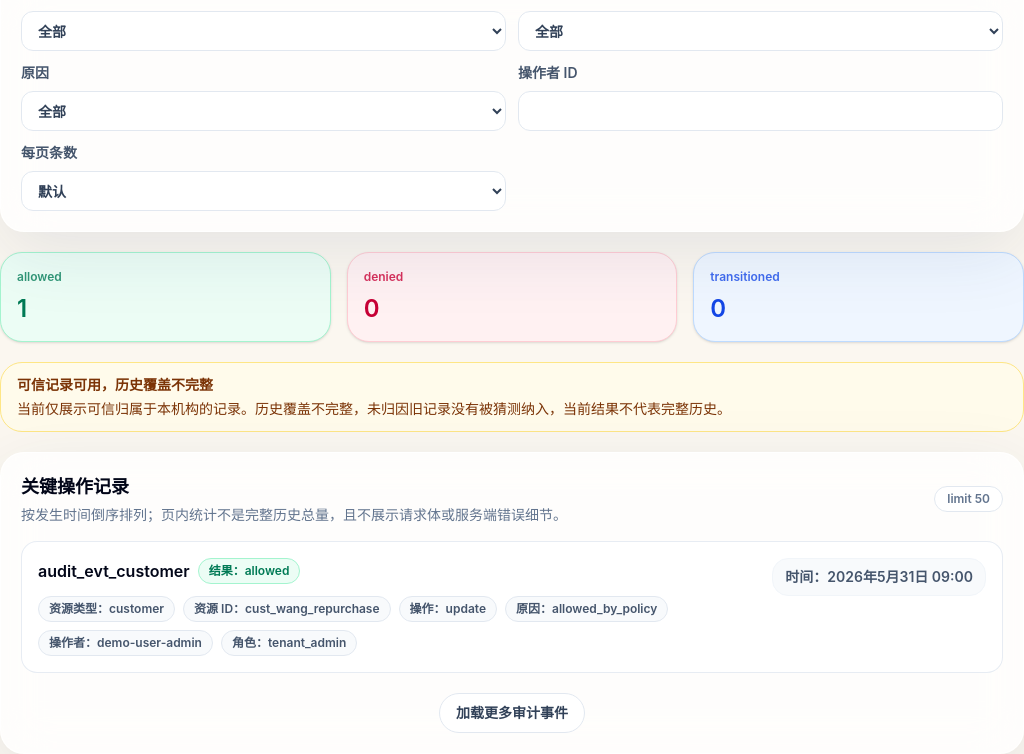
Test: 机构业务页面壳 › 审计日志晚到的旧 append 不污染 replace 后续 append 的 ref
(page scrolled)
Expected: the text "audit_evt_customer" is shown, [38,559,190,583]
Click the button "加载更多审计事件" at coordinates (512, 713), box [439,693,585,733]
(page scrolled)
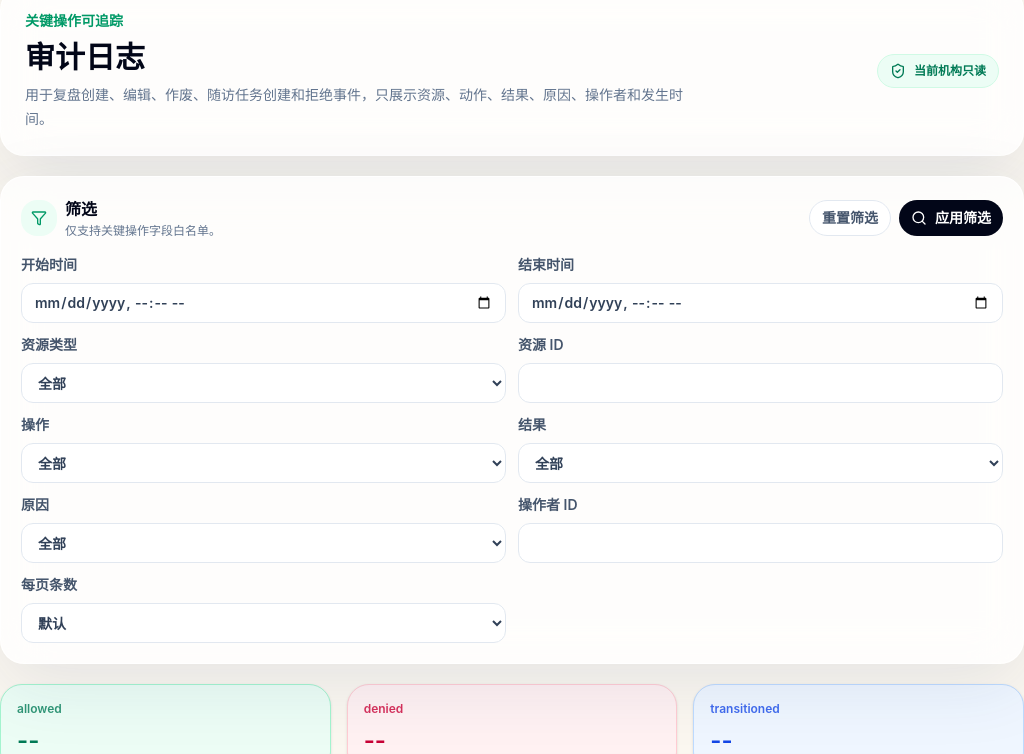
Click the button "应用筛选" at coordinates (951, 218), box [899,200,1003,236]
(page scrolled)
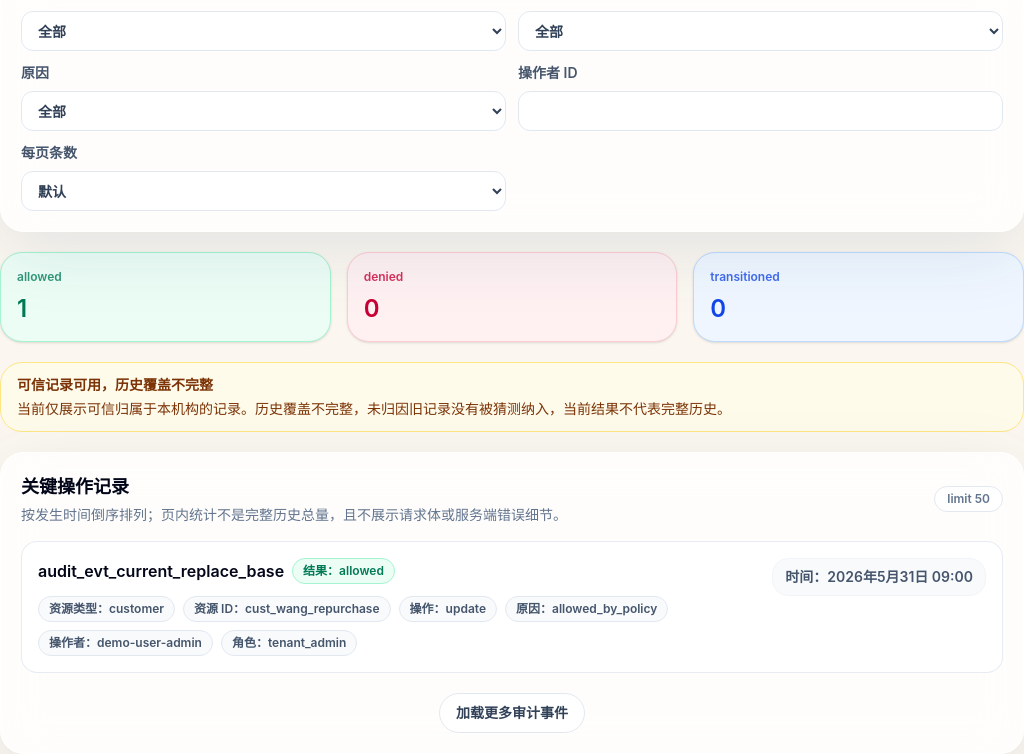
Now the text "audit_evt_current_replace_base" is shown, box [38,559,284,583]
Click the button "加载更多审计事件" at coordinates (512, 713), box [439,693,585,733]
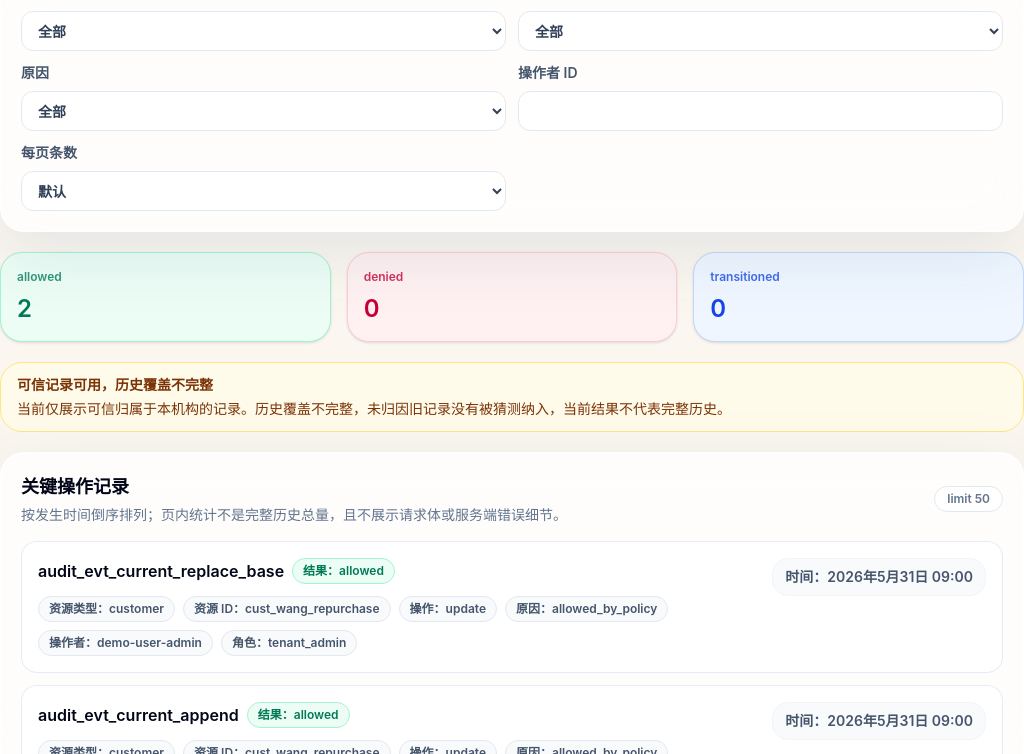
Expected: the text "audit_evt_customer" is not shown
Now the text "audit_evt_current_replace_base" is shown, box [38,559,284,583]
Now the text "audit_evt_current_append" is shown, box [38,703,239,727]
